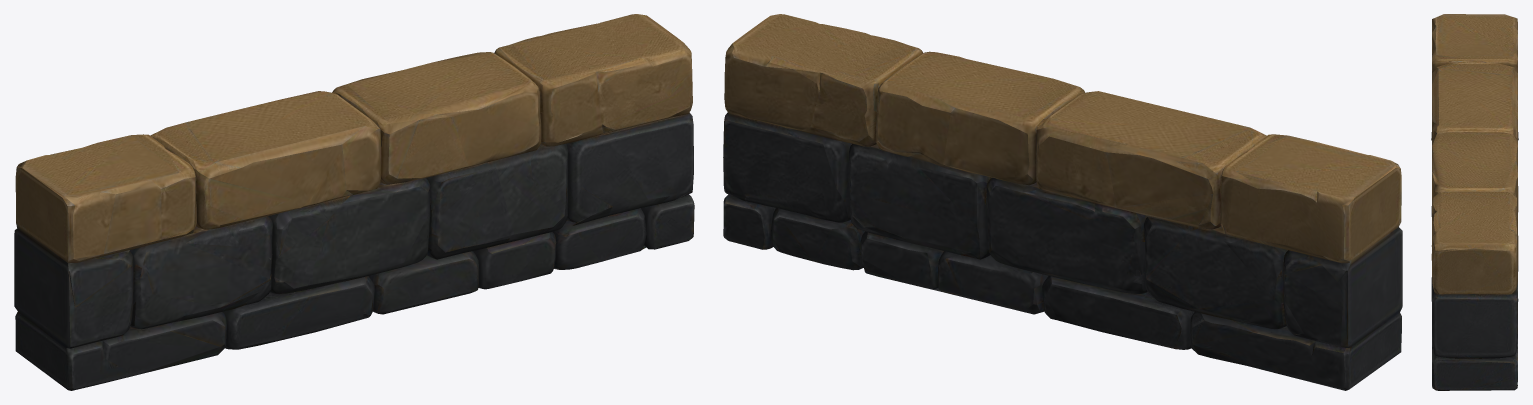
File: stone-wall.glb
The picture shows the model from 3 angles, left to right: view 1: azimuth 30°, elevation 25°; view 2: azimuth 150°, elevation 25°; view 3: azimuth 270°, elevation 25°; orthographic projection. The views are drawn at different scales.
Bounding box in the file's own units: 1.9 × 0.5551 × 0.3008.
Materials: 1 (1 with a texture image).
